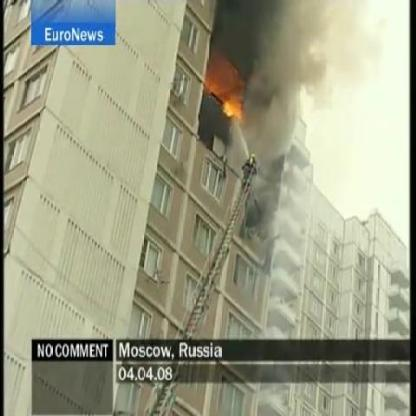fire: (220, 88, 247, 125)
